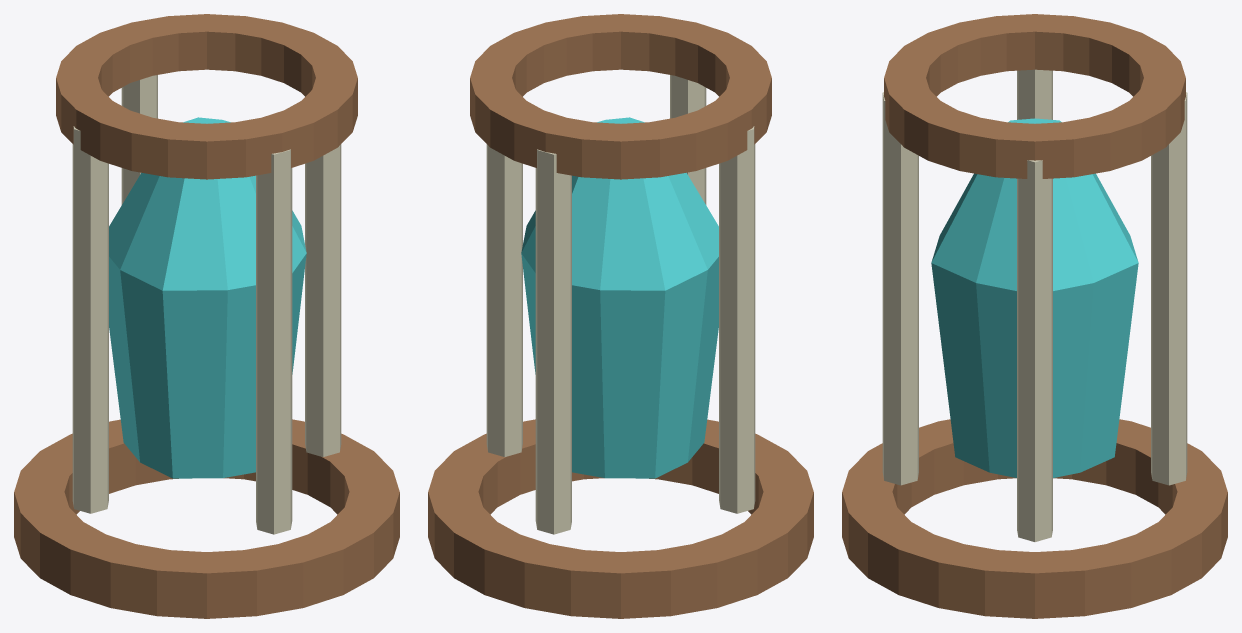
Rendered from ward_lantern.fbx.
3 views of the same model, side by side, from view 1: azimuth 30°, elevation 25°; view 2: azimuth 150°, elevation 25°; view 3: azimuth 270°, elevation 25° (orthographic).
Parts seen in each view (by area): view 1: ward_core, lantern_base, lantern_crown, lantern_bar_3, lantern_bar_2, lantern_bar_0, lantern_bar_1; view 2: ward_core, lantern_base, lantern_crown, lantern_bar_1, lantern_bar_2, lantern_bar_0, lantern_bar_3; view 3: ward_core, lantern_base, lantern_crown, lantern_bar_0, lantern_bar_1, lantern_bar_3, lantern_bar_2.
Boxes of the visible parts, bbox=[...] form: ward_core: bbox=[109, 117, 306, 478]; lantern_base: bbox=[14, 419, 399, 618]; lantern_crown: bbox=[56, 14, 357, 179]; lantern_bar_3: bbox=[256, 149, 292, 534]; lantern_bar_2: bbox=[72, 126, 108, 513]; lantern_bar_0: bbox=[305, 144, 341, 456]; lantern_bar_1: bbox=[121, 75, 157, 204]; ward_core: bbox=[521, 117, 718, 478]; lantern_base: bbox=[428, 419, 813, 618]; lantern_crown: bbox=[470, 14, 771, 179]; lantern_bar_1: bbox=[535, 149, 571, 534]; lantern_bar_2: bbox=[719, 126, 755, 513]; lantern_bar_0: bbox=[486, 144, 522, 456]; lantern_bar_3: bbox=[670, 75, 706, 204]; ward_core: bbox=[931, 118, 1138, 477]; lantern_base: bbox=[842, 419, 1227, 618]; lantern_crown: bbox=[884, 14, 1185, 178]; lantern_bar_0: bbox=[1017, 160, 1052, 541]; lantern_bar_1: bbox=[1151, 92, 1187, 485]; lantern_bar_3: bbox=[882, 92, 918, 485]; lantern_bar_2: bbox=[1017, 69, 1052, 119].
Size of the model in its own units: 46 by 60.5 by 46.
